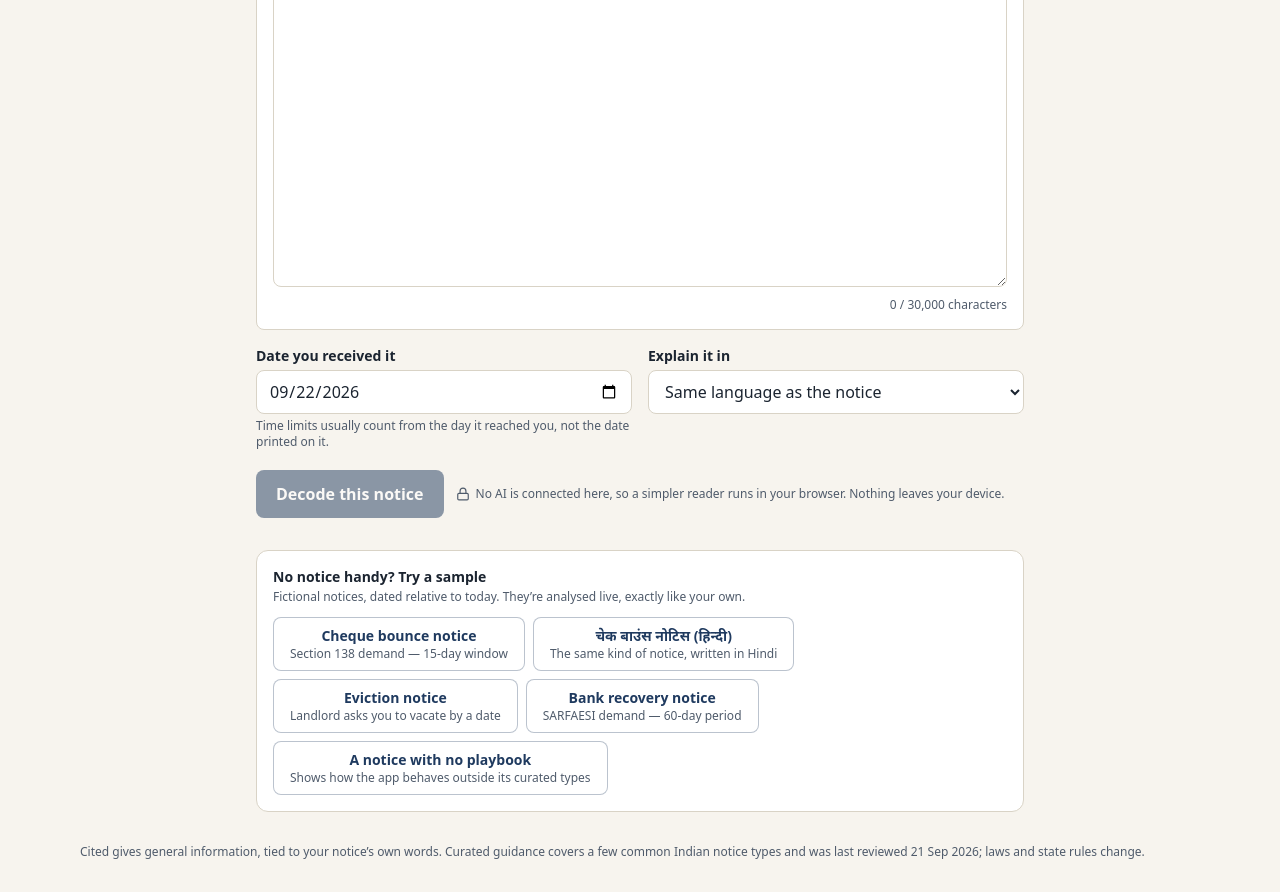
Test case: rule-based path (no AI configured) › lets the person tick off the checklist and reports progress
(page scrolled)
Click the button "Cheque bounce notice Section 138 demand — 15-day window" at (399,644), box [273,617,525,671]
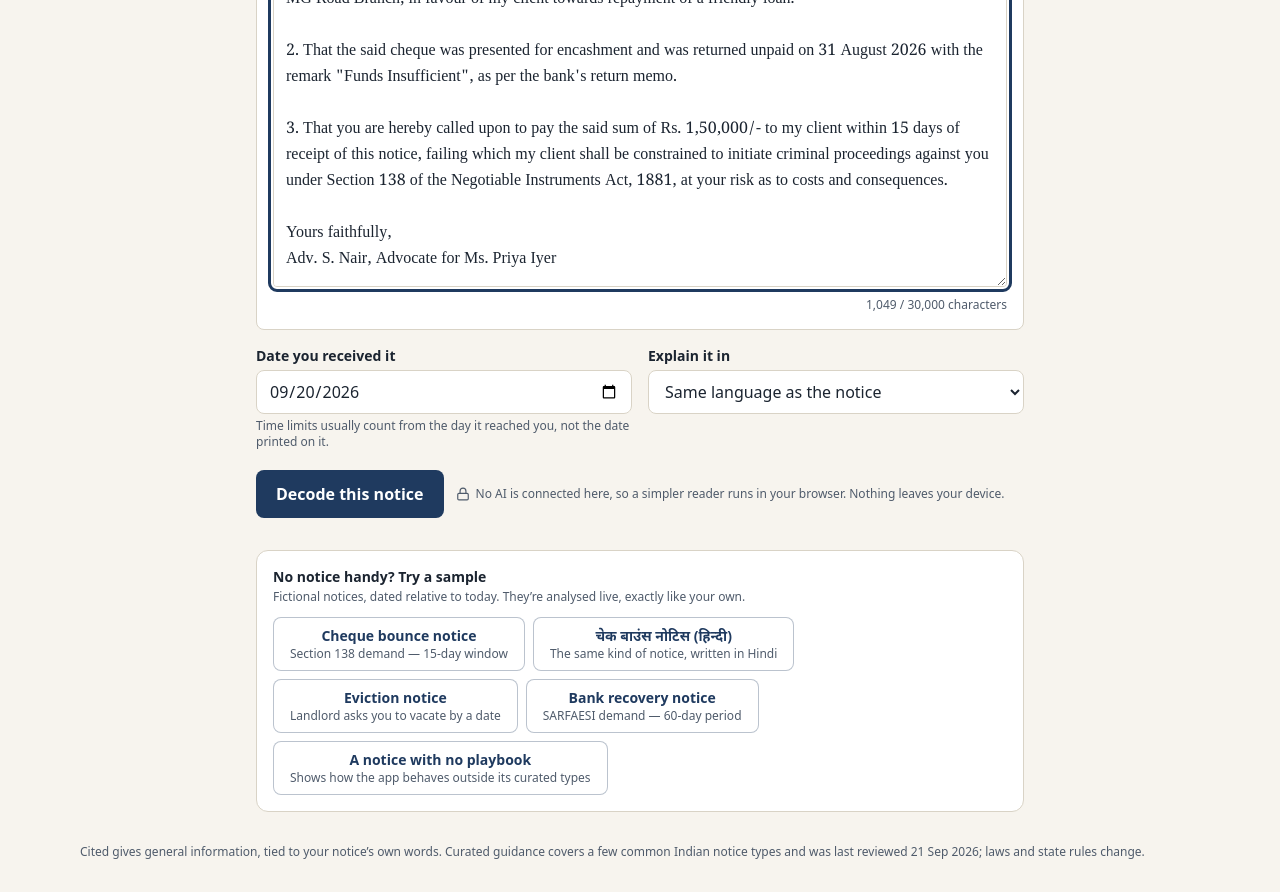
Click the button "Decode this notice" at (350,494), box [256,470,444,518]
(page scrolled)
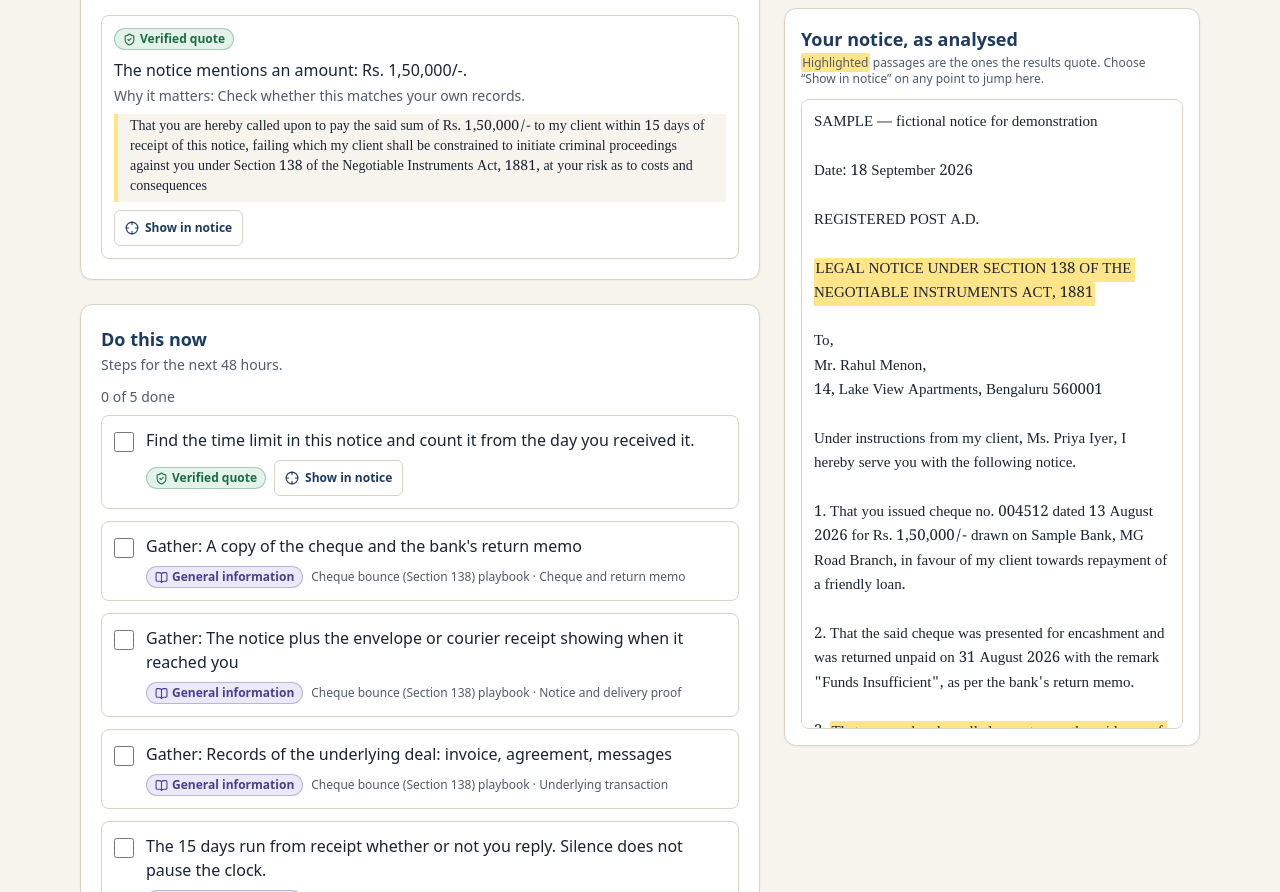
Expected: the text "0 of 5 done" is shown, [101,387,175,406]
Click the 1st checkbox at (124,442), box [114,432,134,452]
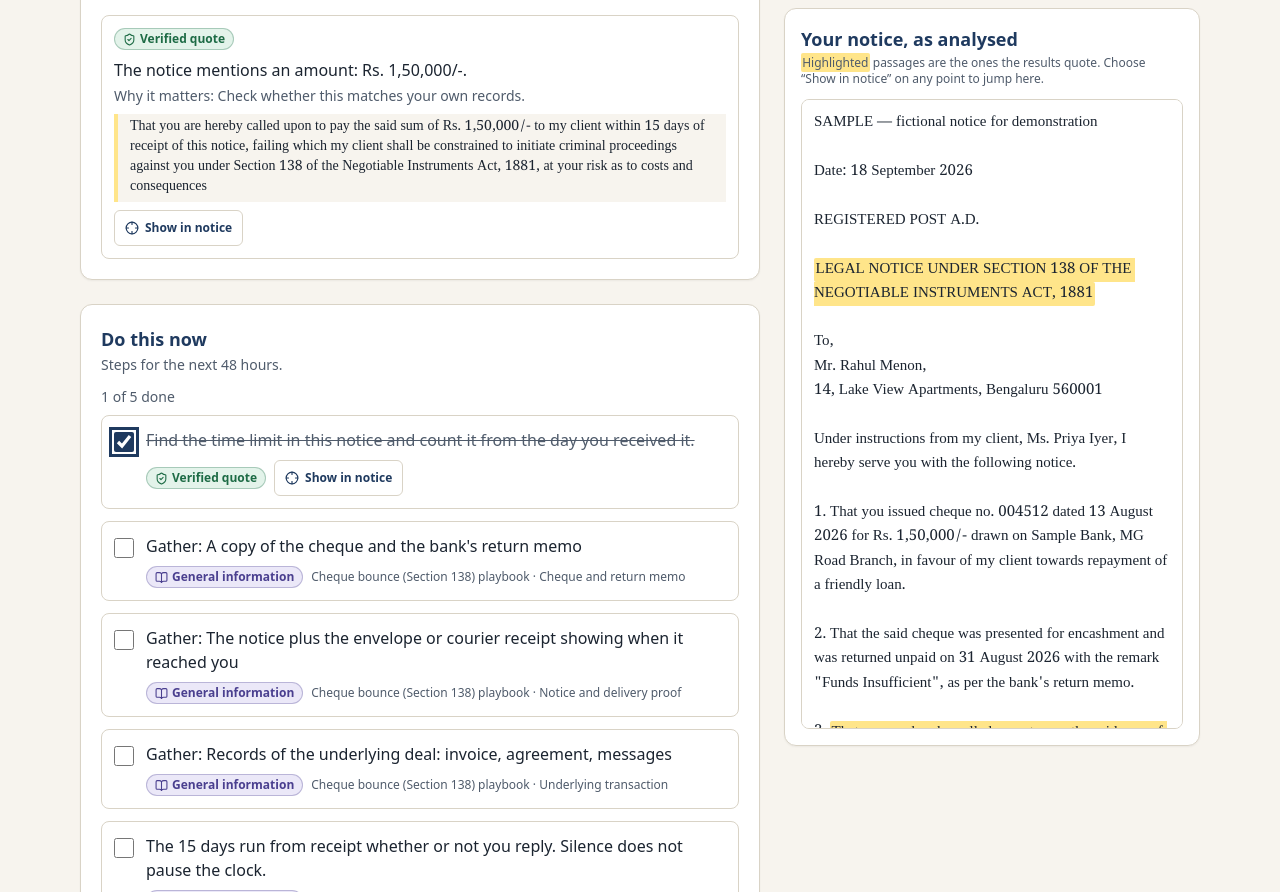
Expected: the text "1 of 5 done" is shown, [101,387,175,406]
